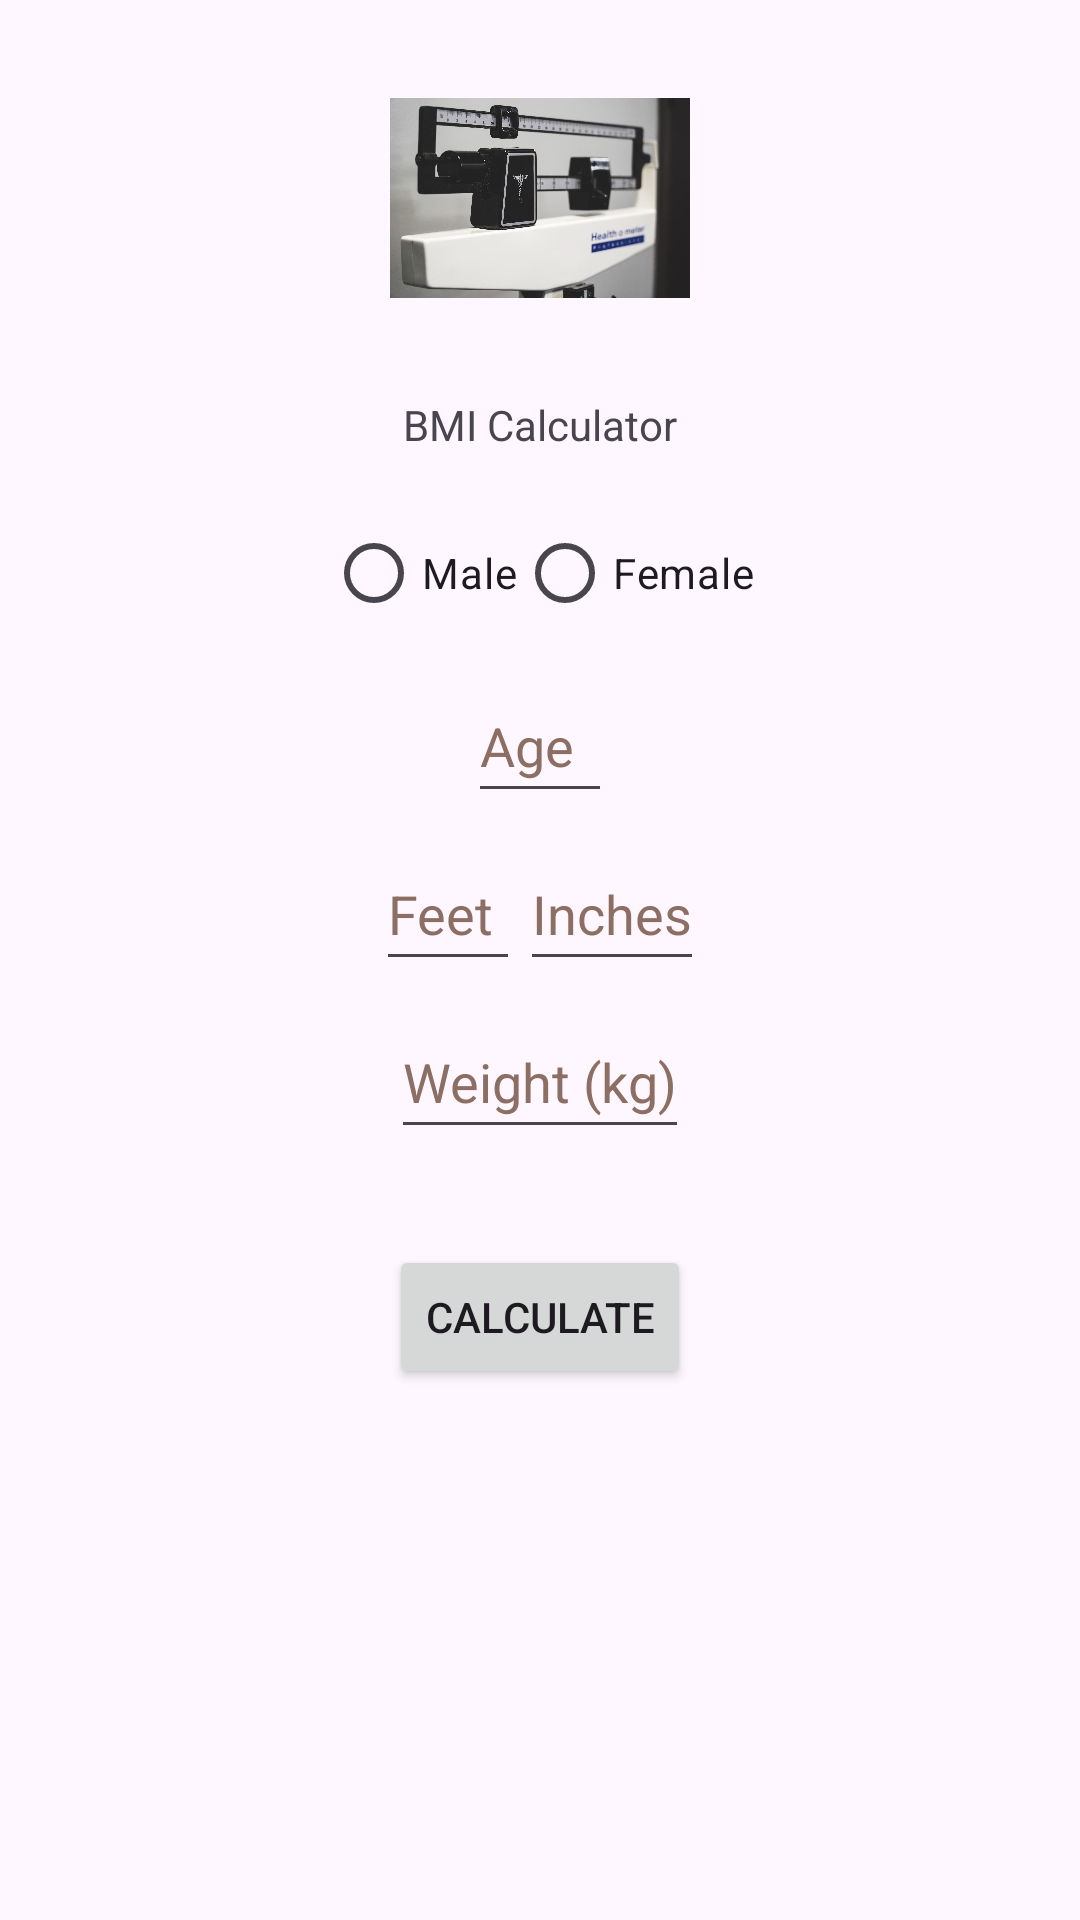

Named icons in this screenshot (1080x1920) and their centers, (x,y):
weight scale image: (540,198)
